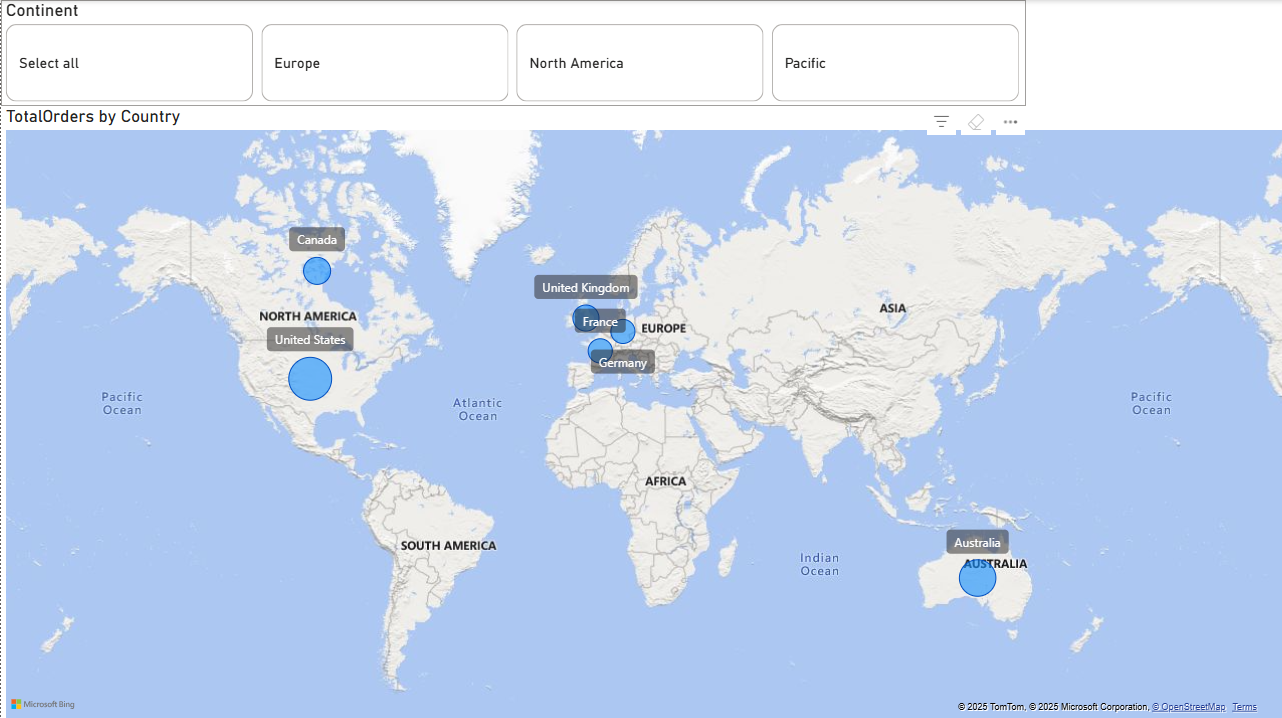

What the dashboard file says about the page in this screenshot:
{"tool":"powerbi","page":{"name":"Map","canvas":[1280,720],"ordinal":6},"visuals":[{"type":"map","fields":{"Category":["Territory Lookup.Country"],"Size":["Measure Table.TotalOrders"]},"box":[0,105.7,1280,614.5],"z":0},{"type":"advancedSlicerVisual","fields":{"Values":["Territory Lookup.Continent"]},"box":[0,0,1020,106.2],"z":1000}]}

Visuals, with their boxes in screenshot pixels (x1, y1, x2, y2), scaled from the page's 1280x720 canvas onto the 1282x718 screenshot:
map - Territory Lookup.Country x Measure Table.TotalOrders: crop(0, 105, 1281, 717)
advancedSlicerVisual - Territory Lookup.Continent: crop(0, 0, 1022, 106)
